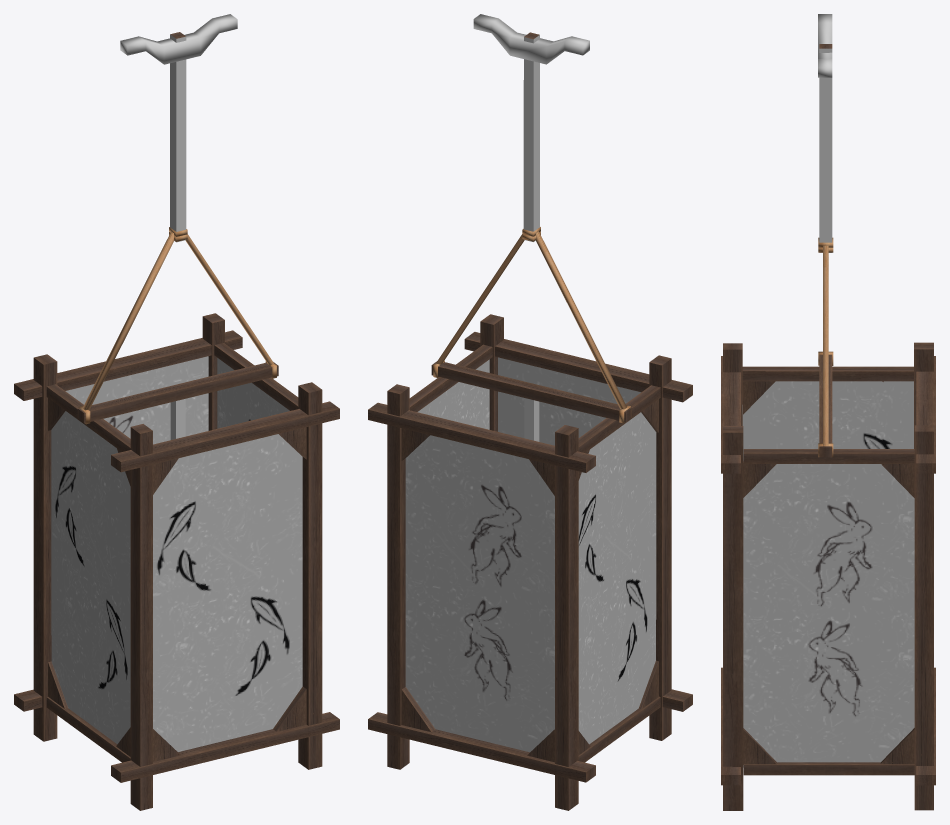
Rendered from jov_andon04b.fbx.
3 renders of one model, left to right at view 1: azimuth 30°, elevation 25°; view 2: azimuth 150°, elevation 25°; view 3: azimuth 270°, elevation 25°, orthographic.
Parts seen in each view (by area): view 1: jov_andon04b; view 2: jov_andon04b; view 3: jov_andon04b.
Part boxes in pixels (box(x1,y1,x2,y2)): jov_andon04b: box(14, 14, 339, 810); jov_andon04b: box(368, 14, 692, 810); jov_andon04b: box(721, 14, 935, 810).
Size of the model in its own units: 36.43 by 115 by 30.81.
